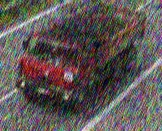truck: (15, 3, 147, 112)
